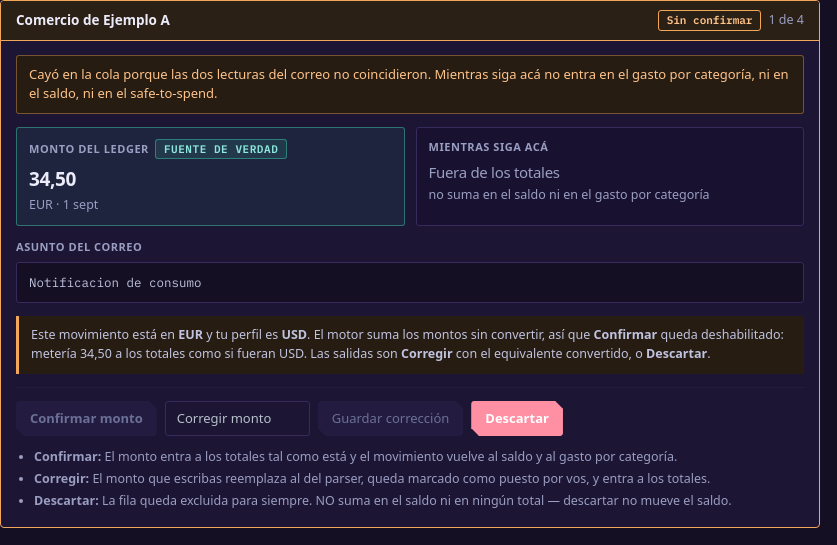
R14 — una fila en otra moneda no ofrece Confirmar › las otras dos salidas siguen abiertas: Corregir y Descartar
Expected: the button with test id "review-descartar" is enabled, [471,401,563,436]
Type "30" into the field with test id "review-monto-nuevo" at (237, 418), box [165,401,310,436]
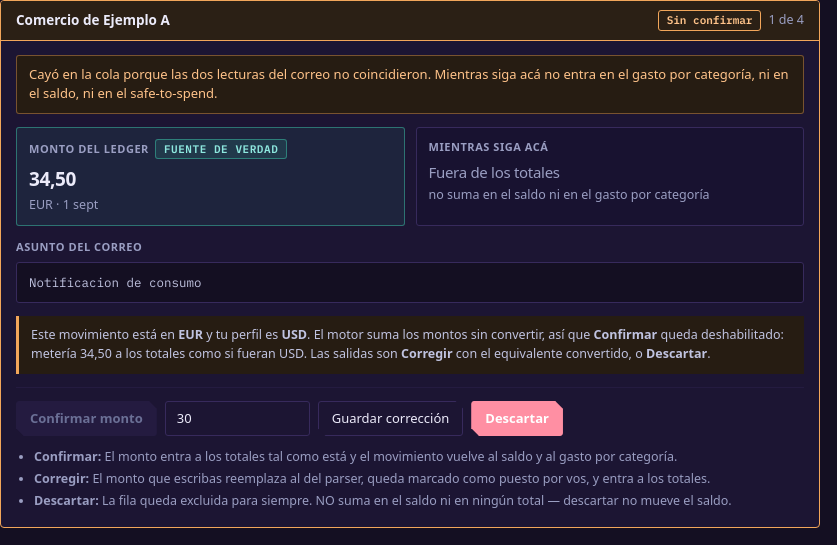
Now the button with test id "review-corregir" is enabled, box [318,401,463,436]
